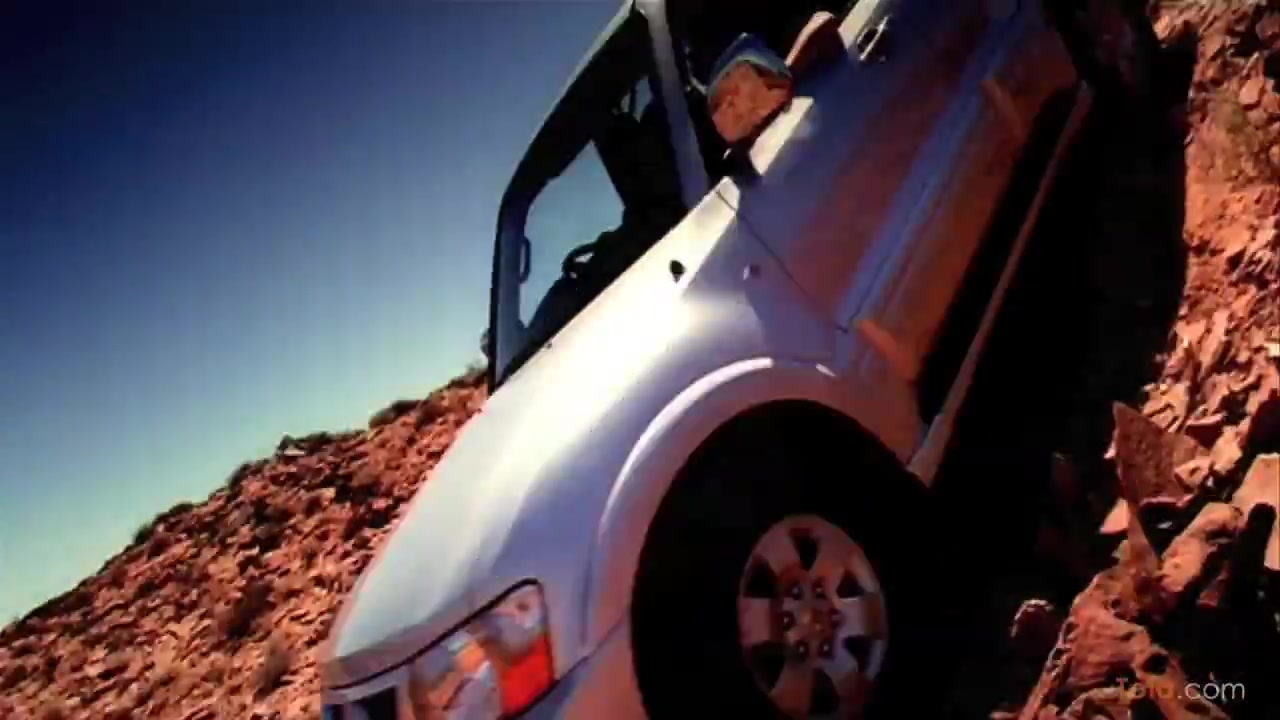car: (317, 1, 1167, 720)
